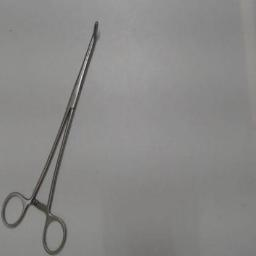Lahey Forceps: (0, 16, 100, 254)
